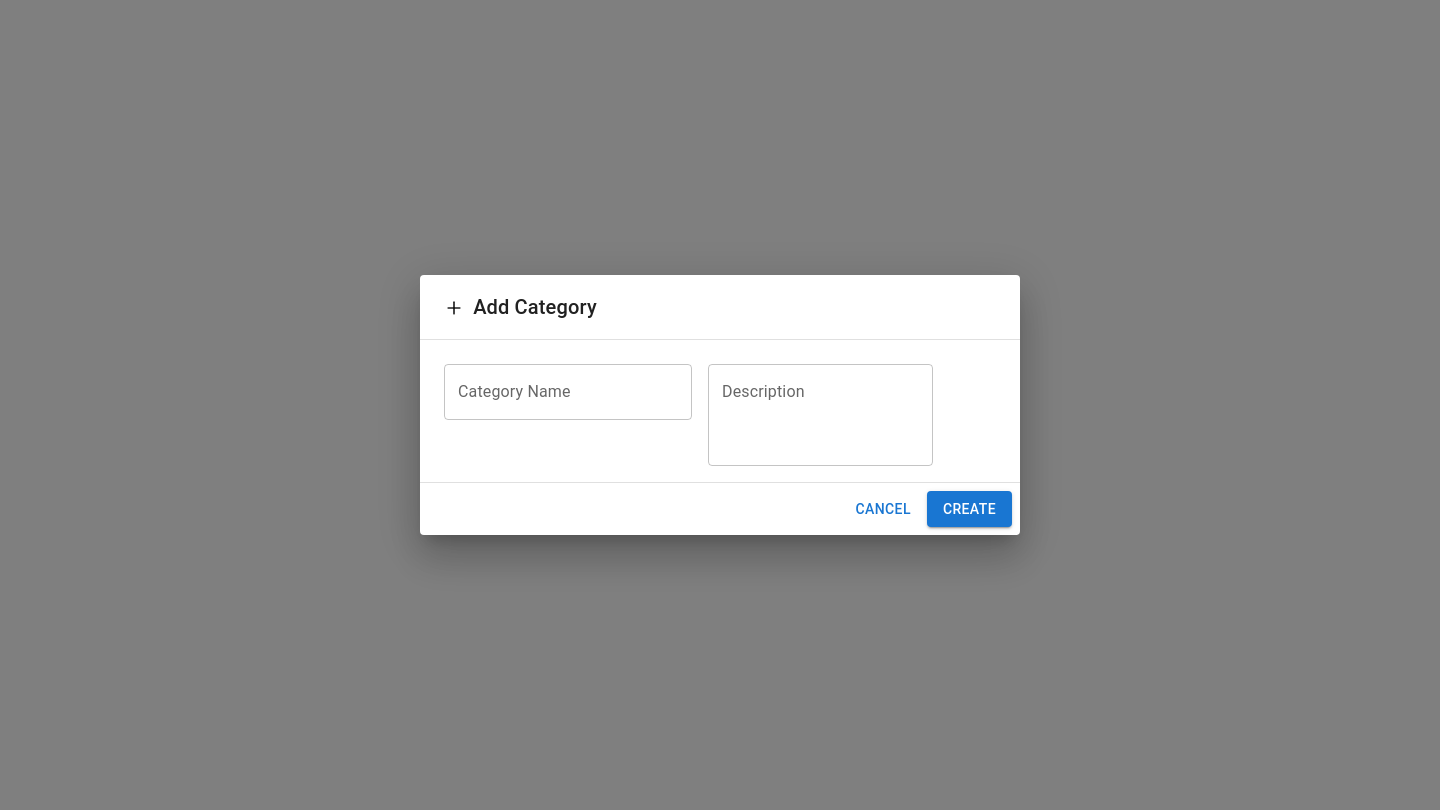
Test case: CategoryDialog Component › shows validation error when category name is empty on submit
This screenshot has width=1440, height=810.
What coordinates should you click on to do the following:
click the button "Create"
I would click on:
 (969, 509)
Its box is [927,491,1012,527].
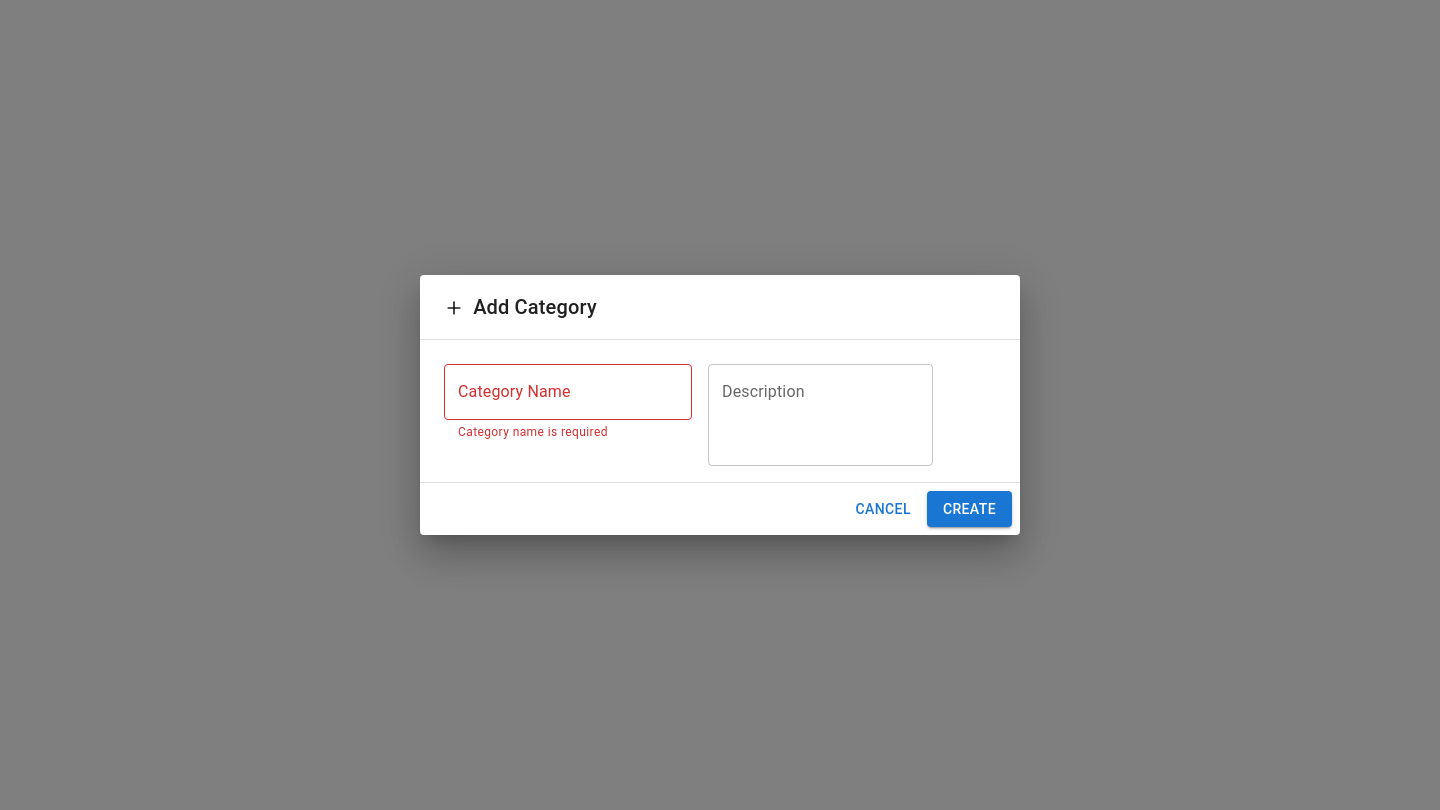
Expected: the text "Category name is required" is shown, [458,425,608,439]
